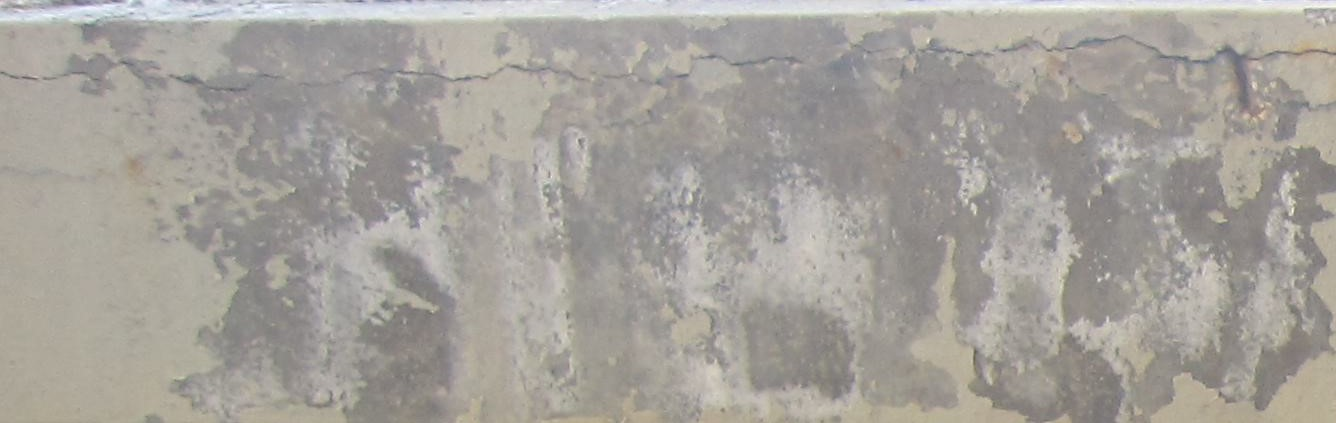Crack: (1, 30, 1336, 96)
Spalling: (167, 18, 1336, 423)
